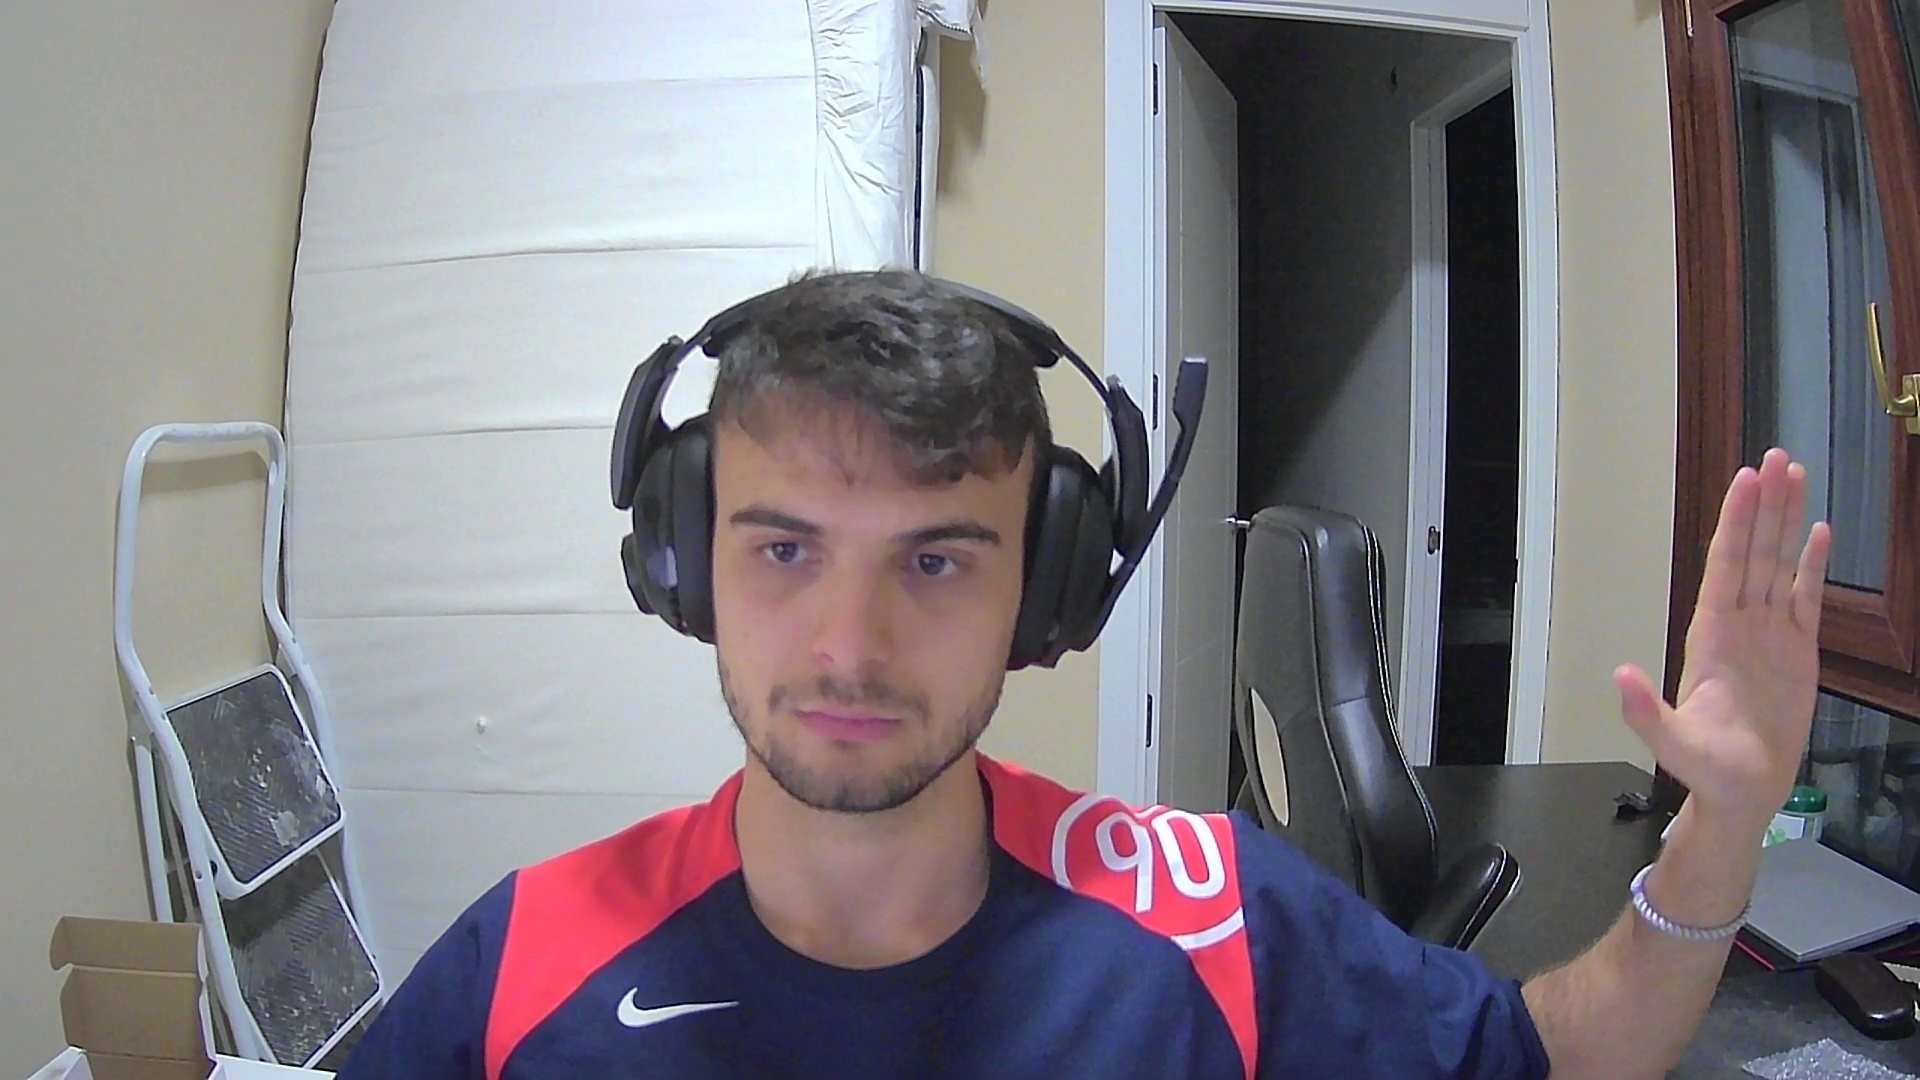Palm: (1615, 433, 1840, 814)
